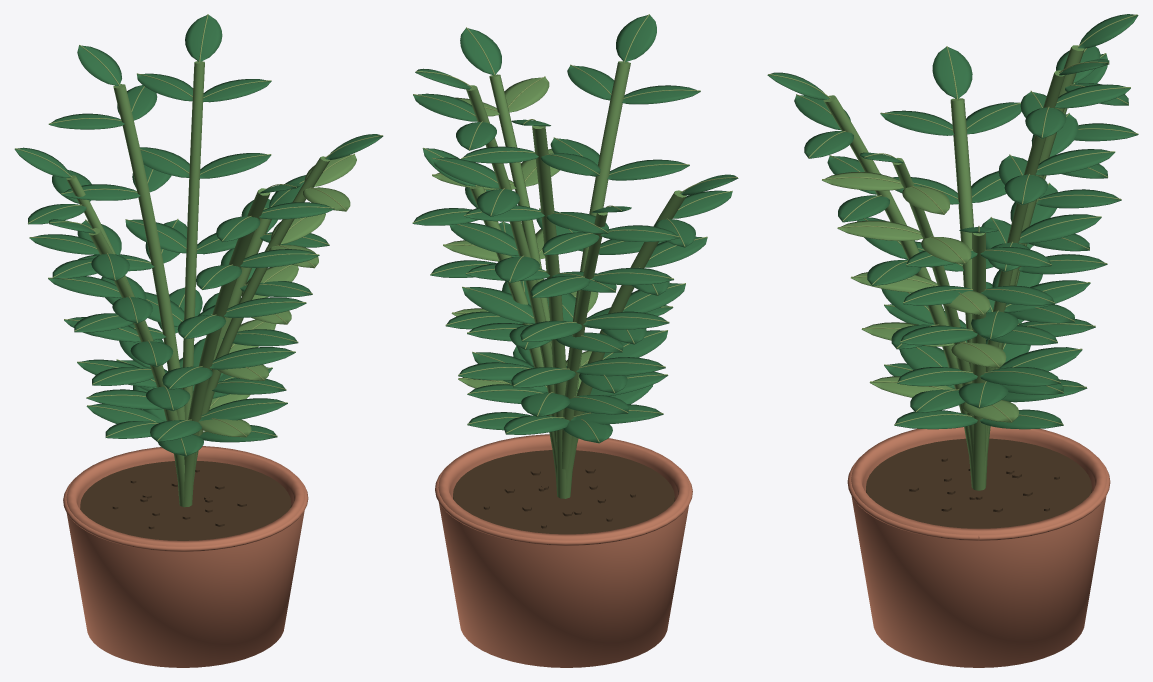
Rendered from potted-zz-plant.glb.
3 renders of one model, left to right at view 1: azimuth 30°, elevation 25°; view 2: azimuth 150°, elevation 25°; view 3: azimuth 270°, elevation 25°, orthographic. The views are drawn at different scales.
Visible parts, largest first — view 1: potted-zz-plant authored assembly; view 2: potted-zz-plant authored assembly; view 3: potted-zz-plant authored assembly.
Boxes of the visible parts, x1,y1,x2,y2 form: potted-zz-plant authored assembly: (14,14,383,667); potted-zz-plant authored assembly: (412,14,738,667); potted-zz-plant authored assembly: (767,14,1138,667).
Size of the model in its own units: 0.52 by 0.9 by 0.5.
